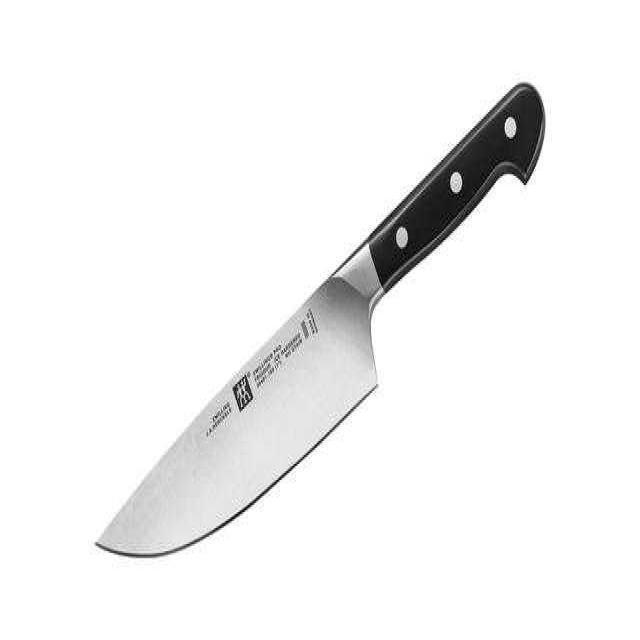knife: (85, 77, 559, 583)
